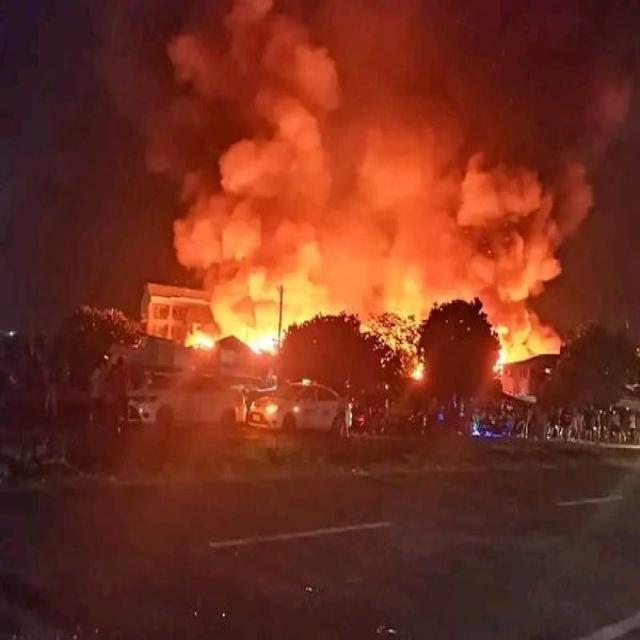Fire: (174, 273, 278, 357), (504, 258, 559, 358)
Smoke: (126, 0, 640, 164), (161, 147, 608, 266), (276, 248, 522, 322)
